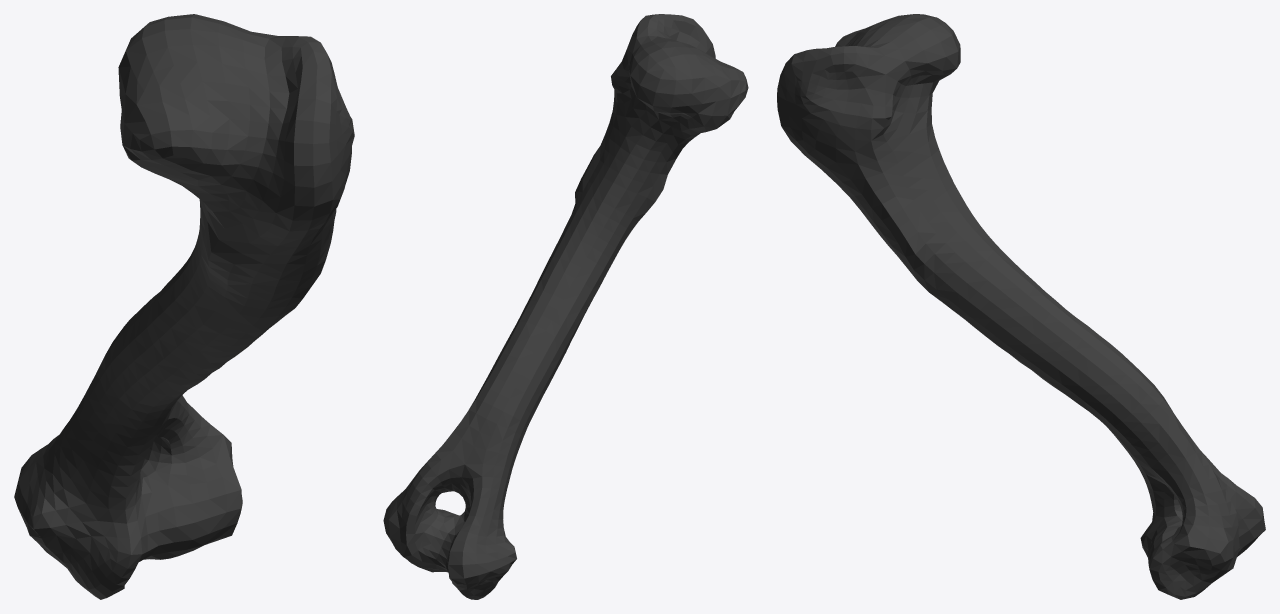
File: Humerus.glb
3 renders of one model, left to right at view 1: azimuth 30°, elevation 25°; view 2: azimuth 150°, elevation 25°; view 3: azimuth 270°, elevation 25°, orthographic. The views are drawn at different scales.
Visible parts, largest first — view 1: Humerus; view 2: Humerus; view 3: Humerus.
Boxes of the visible parts, x1,y1,x2,y2 form: Humerus: (14,14,354,599); Humerus: (383,14,748,599); Humerus: (777,14,1265,599).
Size of the model in its own units: 3.89 by 8.55 by 7.16.
1 material, 1 textured.
